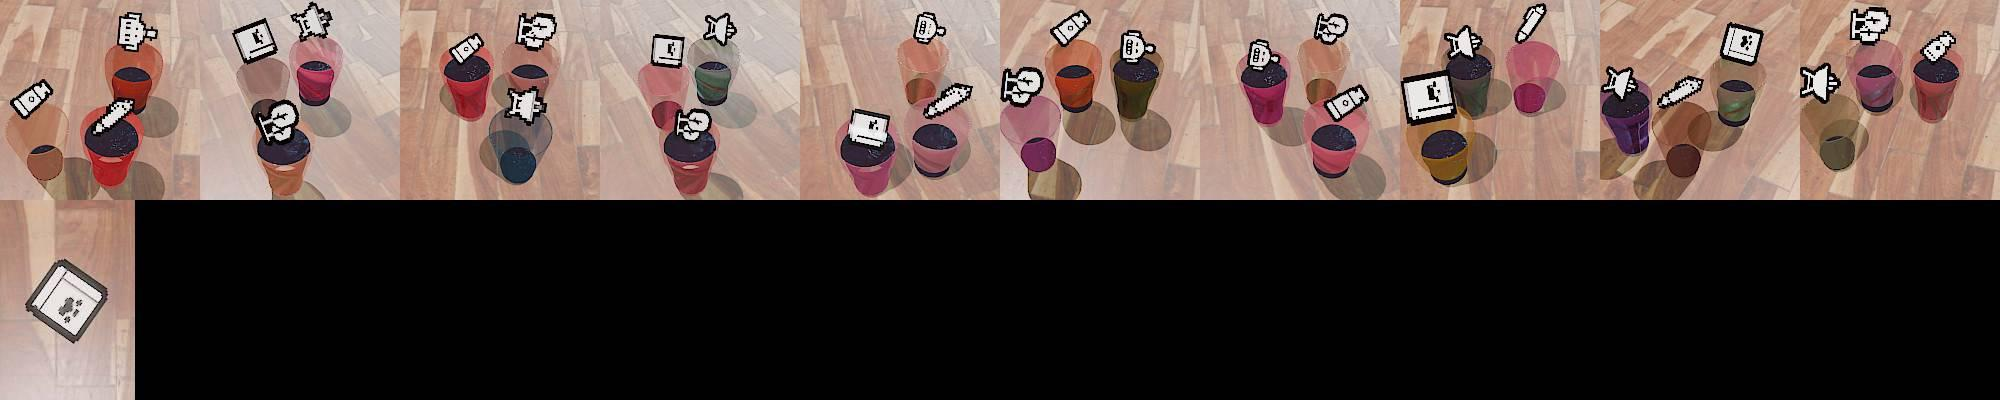icon: (26, 257, 110, 344), (1399, 69, 1455, 125), (232, 18, 279, 66), (1719, 22, 1765, 68), (256, 97, 300, 144), (846, 107, 893, 150), (923, 80, 974, 120), (9, 79, 54, 121), (1324, 82, 1370, 122), (1657, 73, 1707, 110), (1000, 66, 1042, 108), (515, 10, 557, 52), (116, 10, 158, 52), (505, 84, 546, 126), (292, 1, 333, 42), (1798, 62, 1841, 102), (1848, 6, 1892, 45), (1050, 10, 1093, 48), (1443, 23, 1485, 60), (675, 104, 712, 143), (1119, 28, 1157, 64), (1918, 31, 1957, 65), (1515, 3, 1547, 43), (1312, 11, 1349, 46), (448, 33, 485, 68), (651, 33, 685, 69), (1603, 65, 1636, 99), (703, 13, 736, 46), (913, 11, 944, 43), (1246, 38, 1273, 70), (105, 97, 134, 120)
